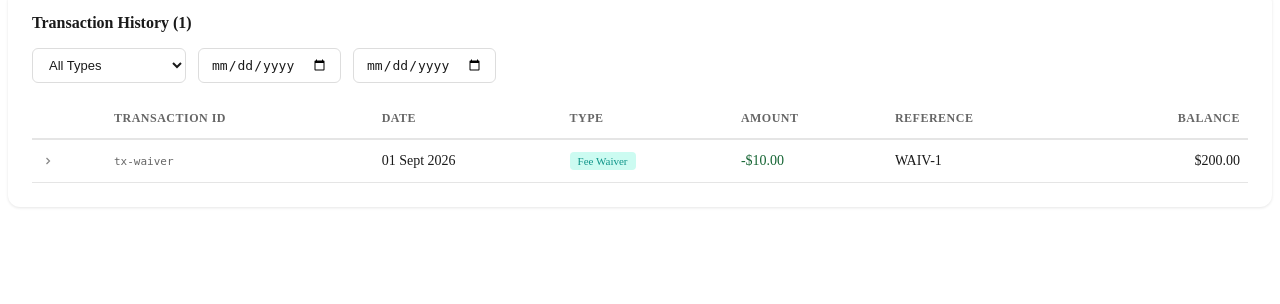
Test: TransactionHistory — transaction detail disclosure › reveals the operator reason and approver when expanded
Click the button named "show details" at {"x": 48, "y": 161}, box [36,149,60,173]
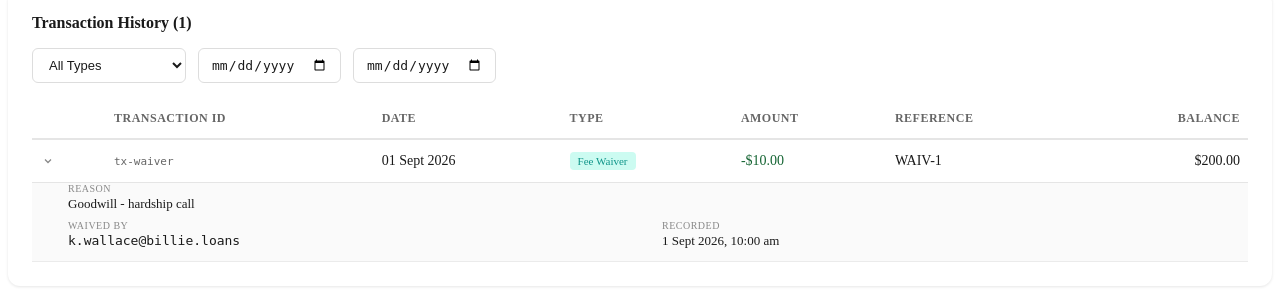
Check: the text "Reason" is shown, box [68,183,111,194]
Check: the text "Goodwill - hardship call" is shown, box [68,196,195,211]
Check: the text "Waived by" is shown, box [68,220,128,231]
